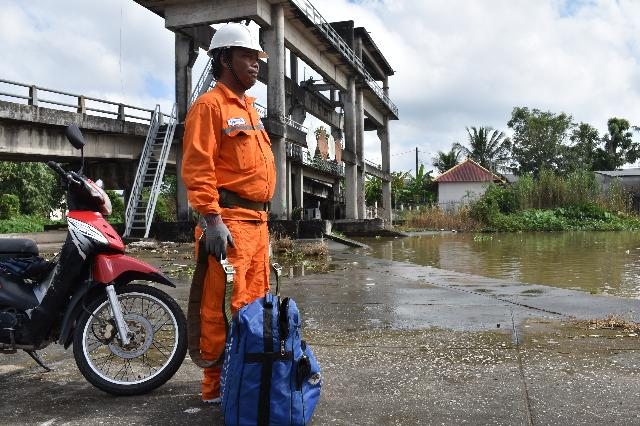gloves: (190, 201, 243, 260)
helmet: (197, 7, 276, 68)
